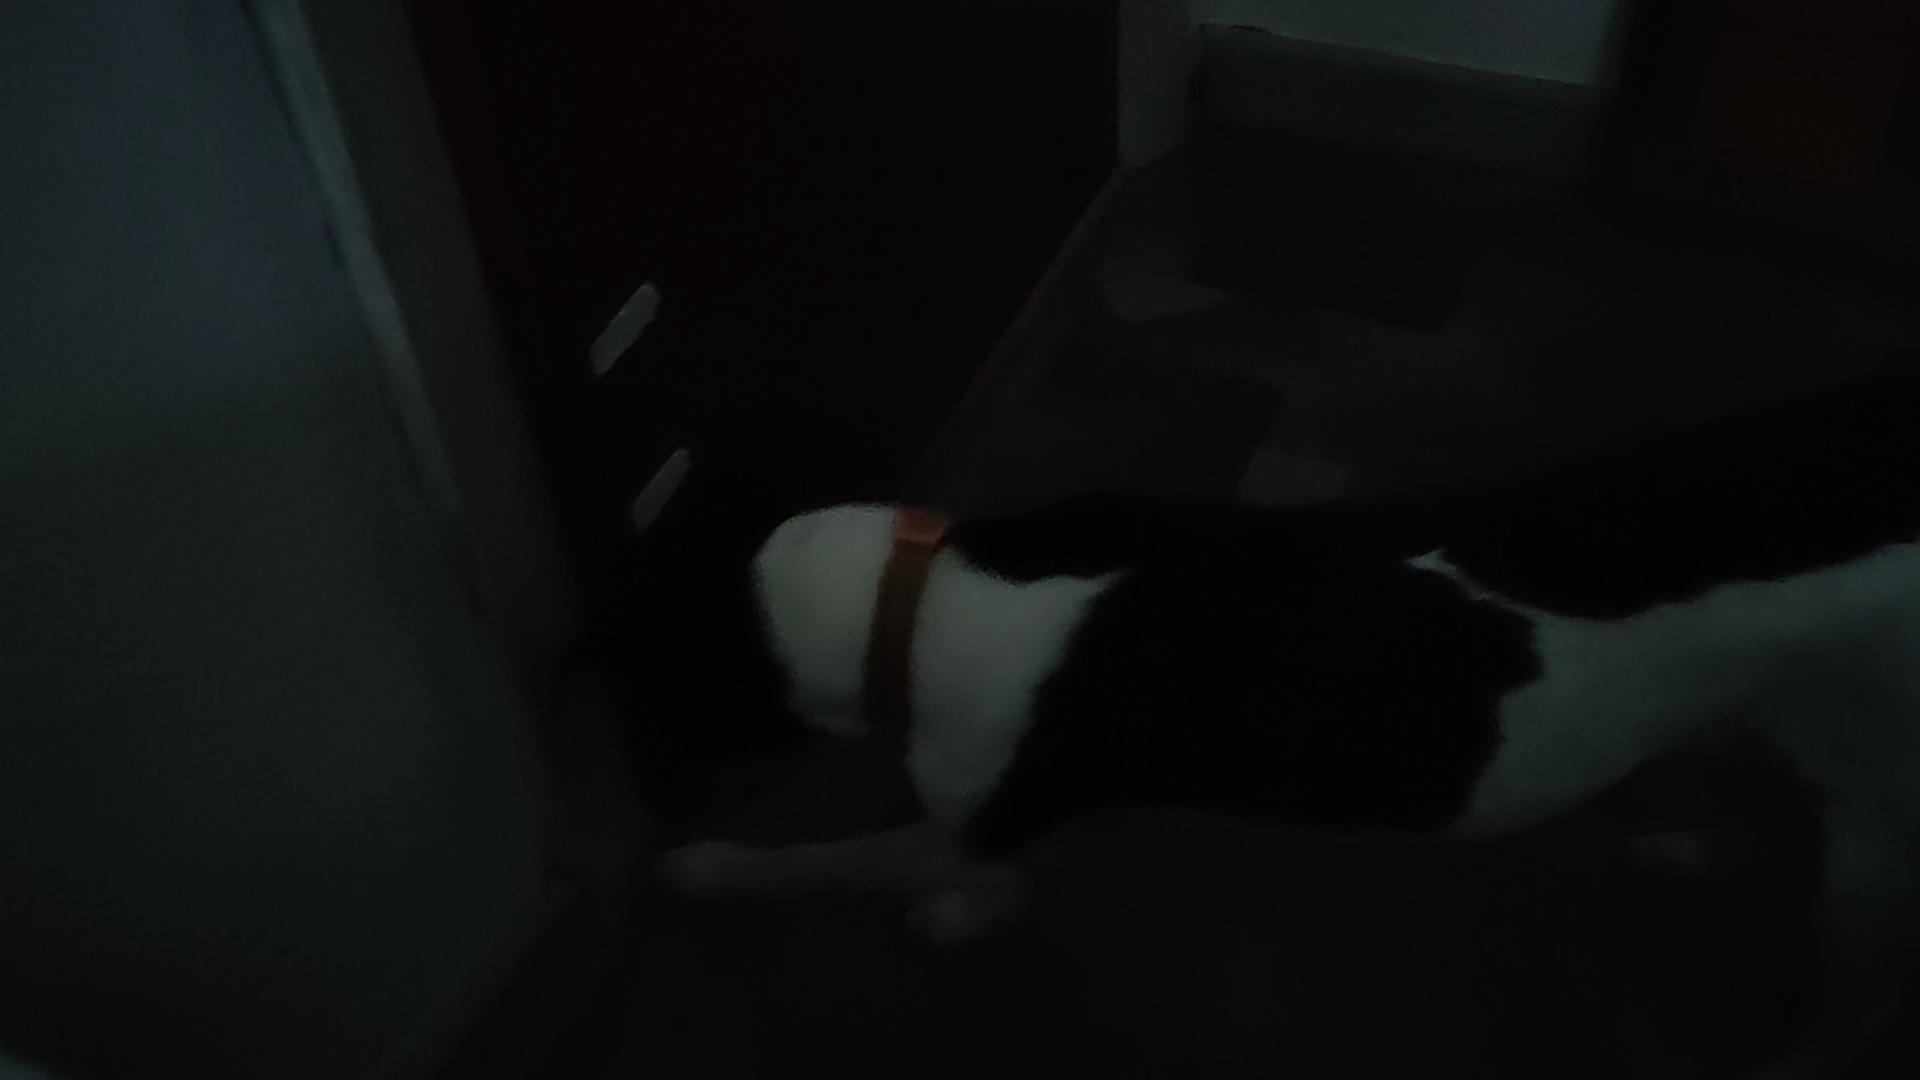Dog: (549, 334, 1919, 1079)
